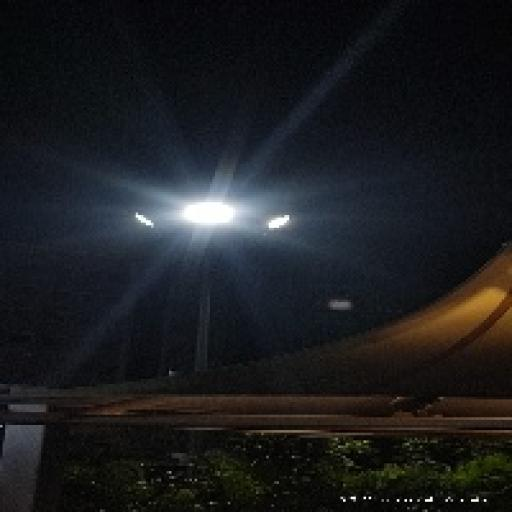Not Working: (319, 290, 358, 318)
Working: (180, 194, 241, 232), (126, 207, 166, 236), (259, 208, 297, 236)
